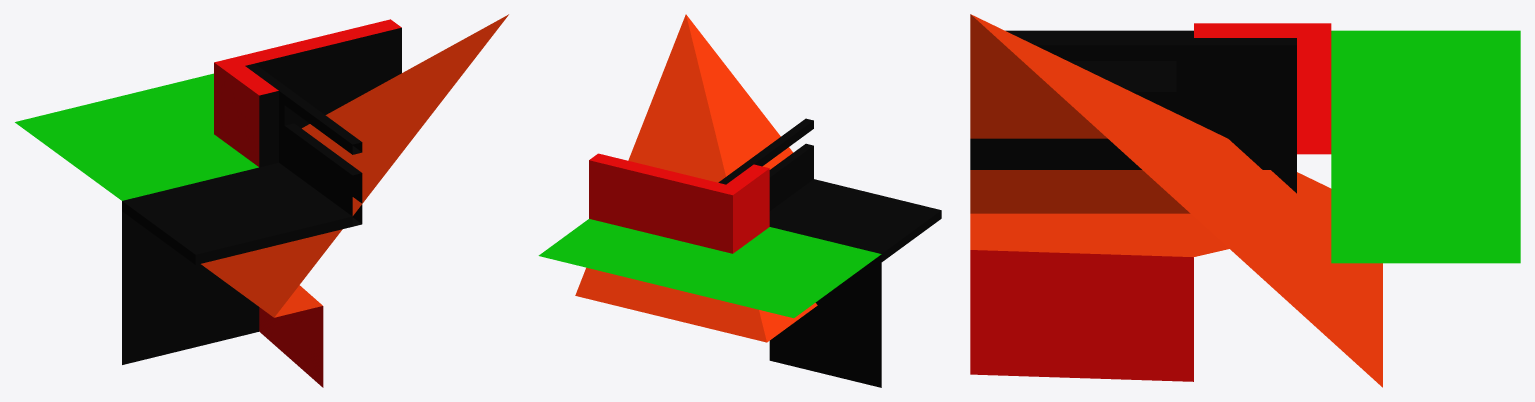
The picture shows the model from 3 angles, left to right: view 1: azimuth 30°, elevation 25°; view 2: azimuth 150°, elevation 25°; view 3: azimuth 270°, elevation 25°; orthographic projection. The views are drawn at different scales.
Visible parts, largest first — view 1: None_W_S_E_E_W_P_E_E_None; view 2: None_W_S_E_E_W_P_E_E_None; view 3: None_W_S_E_E_W_P_E_E_None.
Part boxes in pixels (x1,y1,x2,y2): None_W_S_E_E_W_P_E_E_None: [15, 14, 508, 387]; None_W_S_E_E_W_P_E_E_None: [538, 14, 941, 387]; None_W_S_E_E_W_P_E_E_None: [970, 14, 1520, 387].
Bounding box in the file's own units: 100 × 100 × 100.
